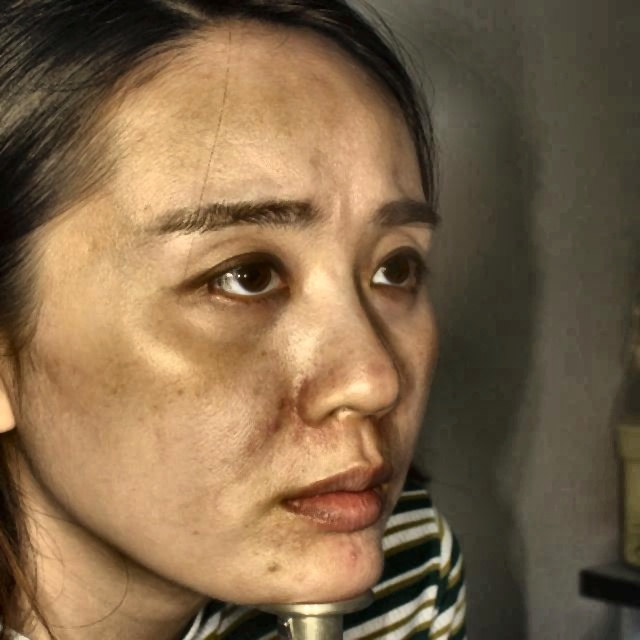comedone: (266, 398, 288, 446), (342, 538, 362, 568)
